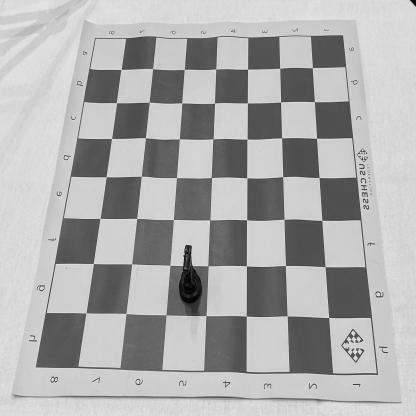black-knight: (178, 245, 203, 304)
